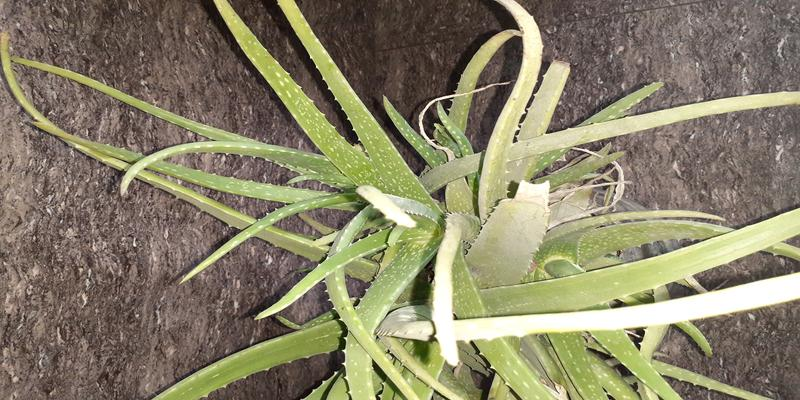Aloevera: (205, 124, 637, 387)
